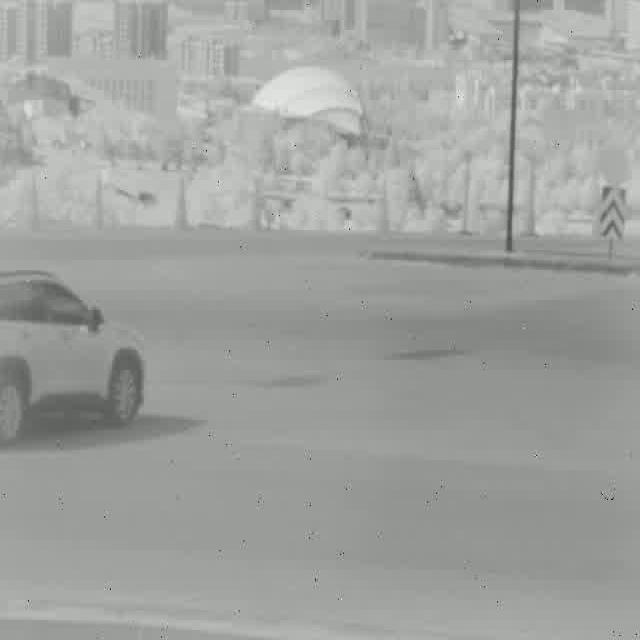Car: (0, 272, 148, 443)
